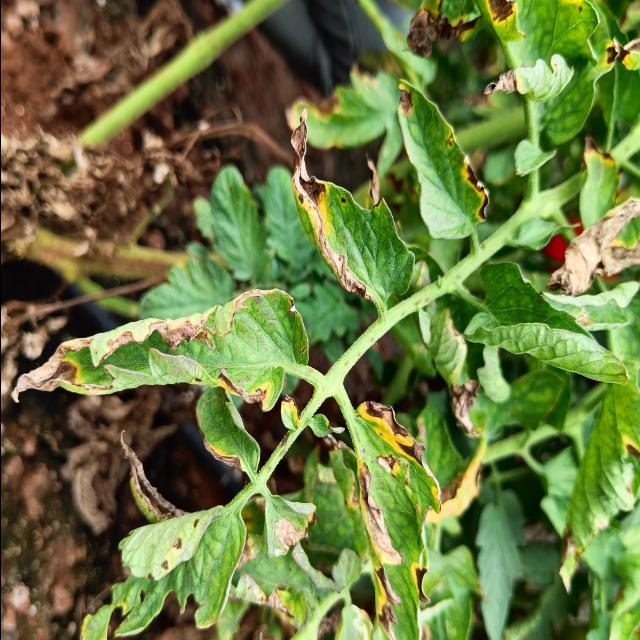Tomato mosaic virus leaf: (5, 278, 309, 416), (348, 394, 442, 640), (284, 103, 396, 309), (479, 0, 624, 120), (394, 72, 492, 244), (192, 404, 266, 474)
